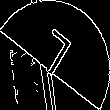L_SW: (31, 25, 79, 85)
